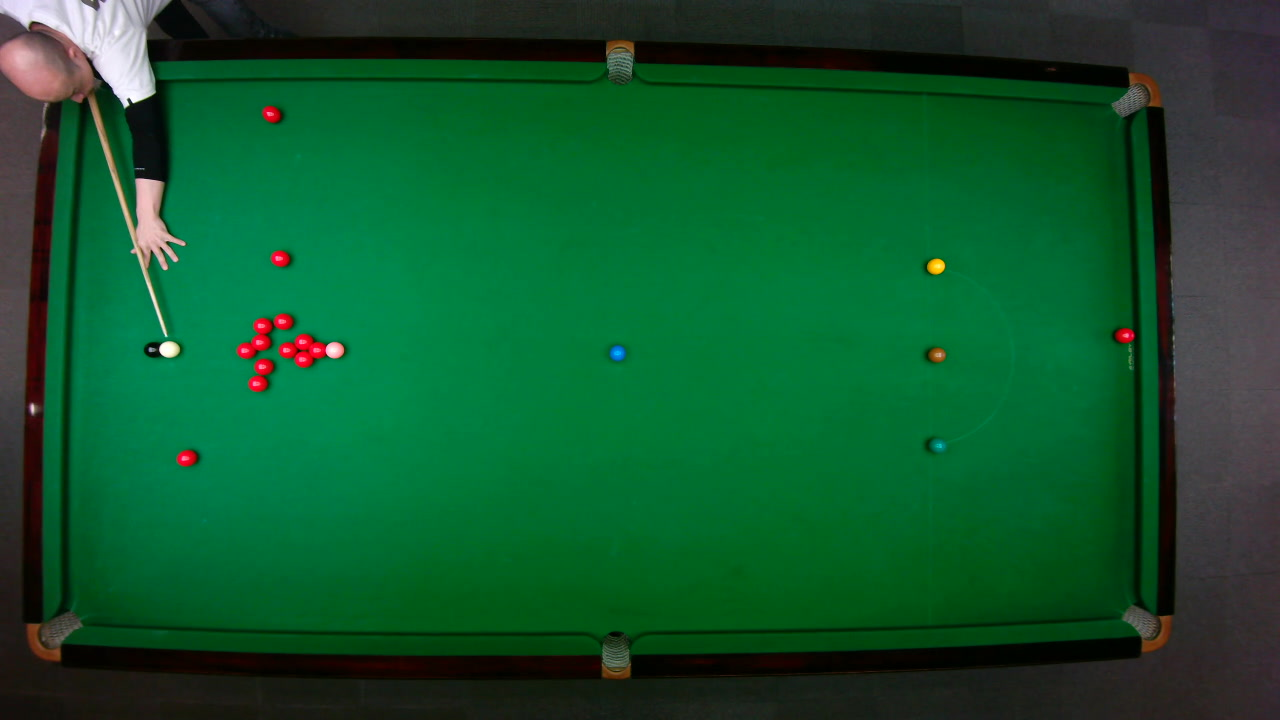bag: (24, 609, 83, 661), (1119, 603, 1172, 652), (1108, 71, 1161, 118), (600, 629, 630, 680), (605, 38, 633, 85)
black: (142, 341, 163, 359)
blue: (607, 343, 626, 361)
brown: (926, 346, 946, 362)
cue: (83, 86, 170, 338)
green: (926, 435, 946, 453)
pink: (323, 340, 345, 359)
red: (175, 448, 198, 467), (234, 340, 256, 359), (261, 104, 282, 123), (246, 374, 268, 392), (292, 350, 314, 368), (252, 357, 274, 375), (251, 316, 272, 334), (269, 249, 290, 267), (1113, 326, 1135, 343), (277, 340, 297, 358), (249, 333, 270, 350), (272, 312, 293, 329), (293, 332, 313, 349), (308, 340, 325, 358)
white: (158, 340, 181, 359)
yellow: (925, 257, 945, 274)
zone: (927, 265, 1013, 444)
